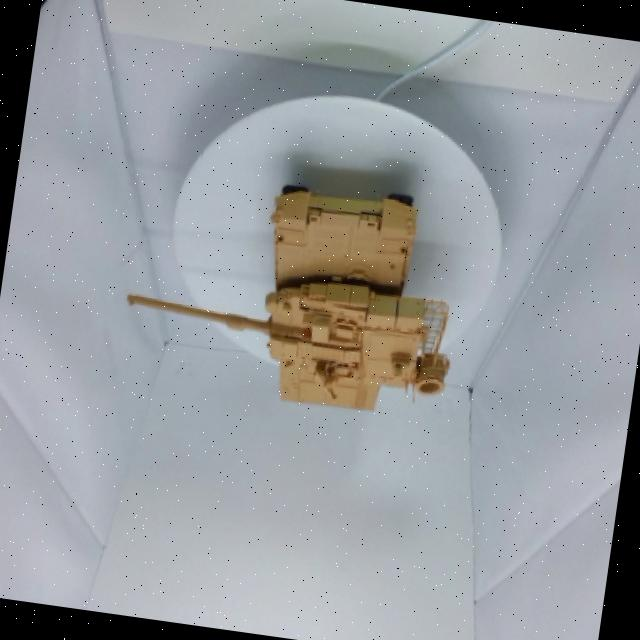korea tank: (95, 124, 511, 470)
